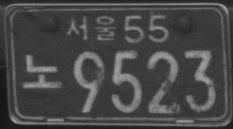2: (145, 49, 182, 115)
3: (182, 48, 217, 115)
5: (110, 49, 144, 114), (121, 13, 146, 45), (145, 11, 169, 44)
9: (71, 49, 106, 113)
노: (20, 51, 64, 91)
서울_O: (65, 13, 117, 43)
